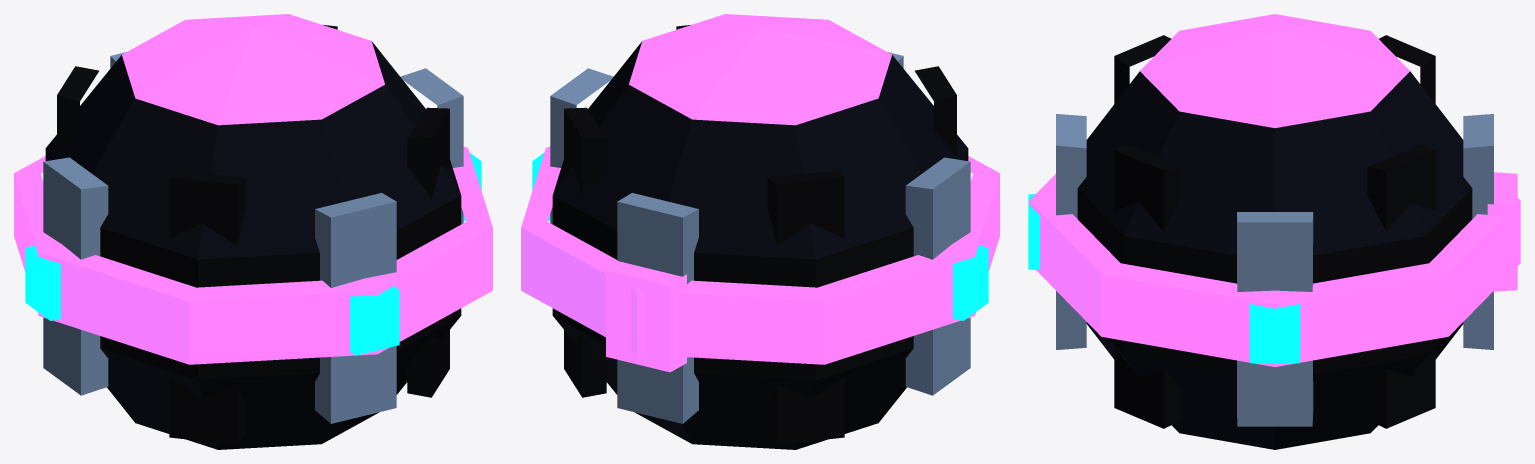
File: SM_Chassis_Magnetar_01.glb
The picture shows the model from 3 angles, left to right: view 1: azimuth 30°, elevation 25°; view 2: azimuth 150°, elevation 25°; view 3: azimuth 270°, elevation 25°; orthographic projection.
Parts seen in each view (by area): view 1: Part_EMI_Magnetic, Part_MAT_AltNeutral, Part_MAT_DarkNeutral, Part_MAT_LightTrim, Part_EMI_Cyan; view 2: Part_EMI_Magnetic, Part_MAT_AltNeutral, Part_MAT_DarkNeutral, Part_MAT_LightTrim, Part_EMI_Cyan; view 3: Part_EMI_Magnetic, Part_MAT_AltNeutral, Part_MAT_DarkNeutral, Part_MAT_LightTrim, Part_EMI_Cyan.
Boxes of the visible parts, bbox=[...] form: Part_EMI_Magnetic: bbox=[14, 14, 492, 364]; Part_MAT_AltNeutral: bbox=[46, 41, 460, 449]; Part_MAT_DarkNeutral: bbox=[45, 24, 461, 444]; Part_MAT_LightTrim: bbox=[43, 52, 463, 423]; Part_EMI_Cyan: bbox=[25, 153, 481, 355]; Part_EMI_Magnetic: bbox=[521, 14, 999, 372]; Part_MAT_AltNeutral: bbox=[553, 41, 967, 449]; Part_MAT_DarkNeutral: bbox=[552, 24, 968, 444]; Part_MAT_LightTrim: bbox=[550, 52, 970, 423]; Part_EMI_Cyan: bbox=[532, 153, 988, 320]; Part_EMI_Magnetic: bbox=[1029, 14, 1520, 366]; Part_MAT_AltNeutral: bbox=[1077, 71, 1472, 449]; Part_MAT_DarkNeutral: bbox=[1077, 35, 1472, 428]; Part_MAT_LightTrim: bbox=[1056, 114, 1493, 426]; Part_EMI_Cyan: bbox=[1028, 194, 1300, 363].
Size of the model in its own units: 5.84 by 5.28 by 5.83.
5 materials, 5 textured.
